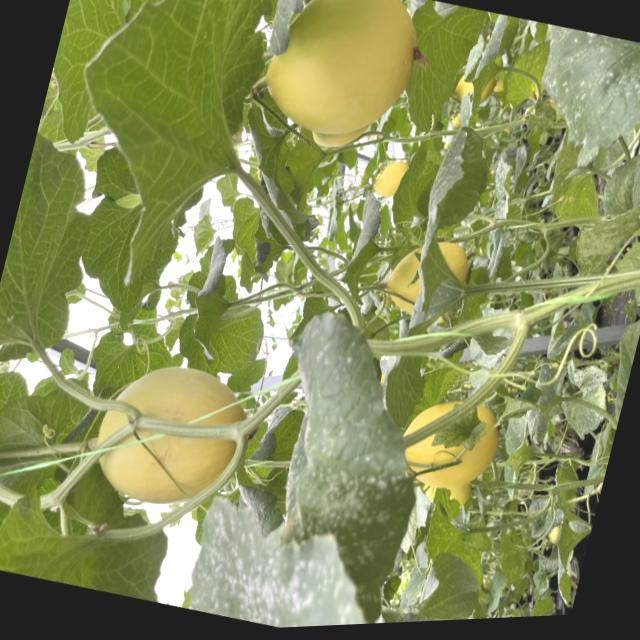CMV: (567, 135, 640, 289), (408, 482, 488, 572), (330, 189, 392, 302)
bacterial wilt: (428, 393, 492, 459)
downy mildew: (547, 351, 619, 445)
healthy: (33, 0, 286, 310), (370, 116, 506, 436), (0, 424, 194, 610), (0, 125, 111, 407), (36, 0, 149, 149), (176, 232, 244, 366)
powdery mildew: (233, 289, 455, 630), (179, 478, 409, 632), (519, 18, 640, 166)
